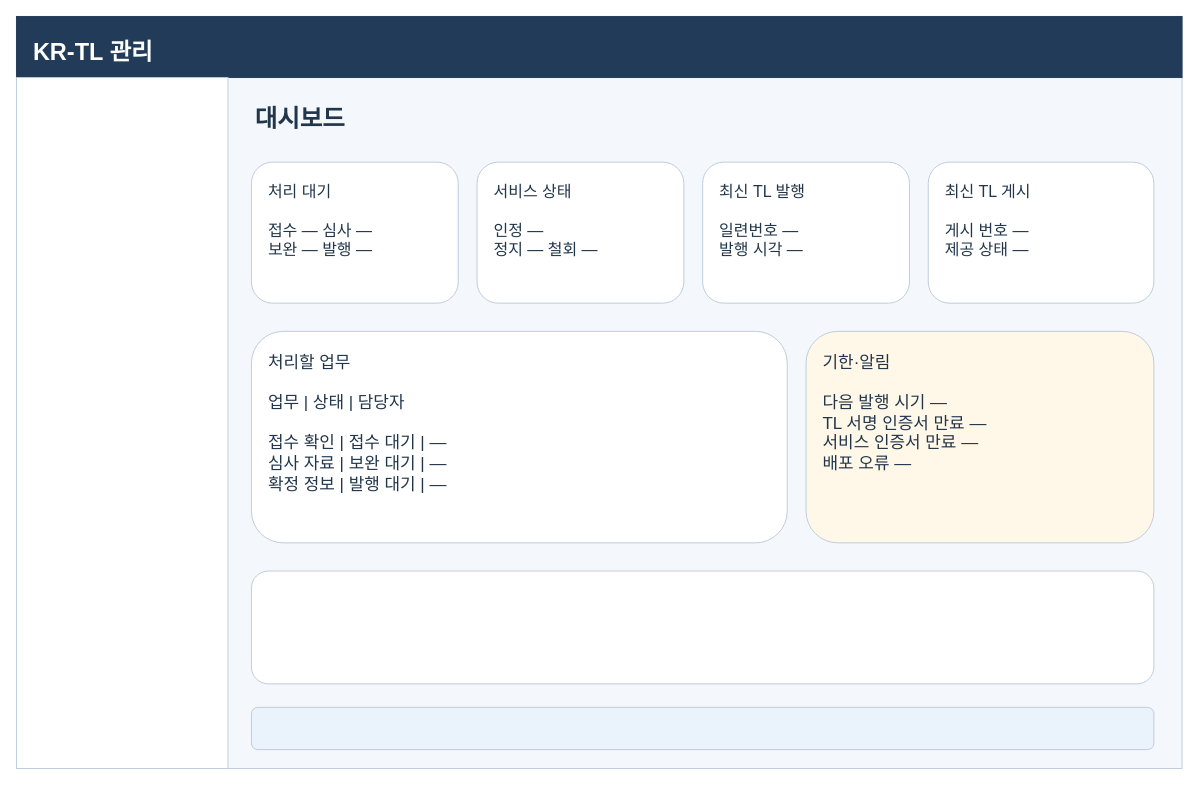
The diagram is 1199 pixels wide and 785 high, and some of its shapes have lost their labels. The centre of each missing label's shape, as x and y in pixels:
"접수 확인 | 발행 관리 | 배포 현황 | 감사 이력" goes at (x=702, y=728).
"최근 처리 이력 처리 시각 | 관리 대상 | 처리 내용 | 담당자" goes at (x=702, y=627).
"현황 사업자·서비스 접수·심사 상태·이력 TL 발행 배포 인증서·기한 권한·감사" goes at (x=122, y=422).
